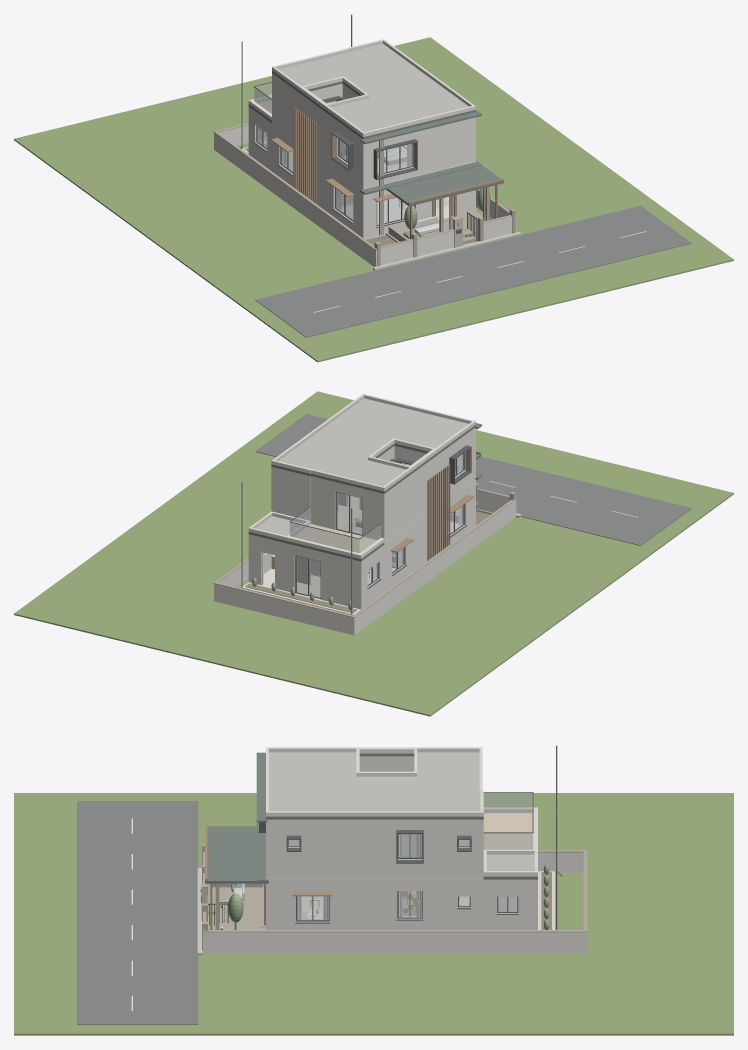
3 views of the same model, one above another, from view 1: azimuth 30°, elevation 25°; view 2: azimuth 150°, elevation 25°; view 3: azimuth 270°, elevation 25° (orthographic). The views are drawn at different scales.
Parts seen in each view (by area): view 1: world, custom-roof-finish-1, custom-roof-edge-1, exterior-porch-01-roof, wall-44aec5453eb587b517/0, wall-ae07d5a1624a482f4e/0, u-court-east-wall/0, wall-56f0df1c559ffb676d/1, wall-8aa8ca5207131ec5fa/1, roof-floor-1, wall-7168c41b46fb575962/1, l-court-east-wall-2/0 (+2 smaller); view 2: world, custom-roof-finish-1, custom-roof-edge-1, wall-07f861034d02370a2d/0, wall-59ff834e22f7912519/0, wall-ae07d5a1624a482f4e/0, wall-a66522edbdfa76ded5/0, u-balcony-guard-0, custom-roof-edge-0, u-balcony/stone-deck, u-court-east-wall/0, l-court-east-wall-2/0 (+6 smaller); view 3: world, custom-roof-finish-1, custom-roof-edge-1, exterior-porch-01-roof, wall-52cafdbdcb19207600/0, wall-091800ff5b6f9d52a1/1, wall-0e7fc3fe49344c308f/1, u-balcony-guard-0, u-balcony/stone-deck, wall-e3868b5023a3825a9d/1, wall-1b6780813577d5cf8a/0, wall-0e7fc3fe49344c308f/0 (+20 smaller).
Boxes of the visible parts, x1,y1,x2,y2 form: world: (14, 14, 733, 362); custom-roof-finish-1: (279, 44, 468, 131); custom-roof-edge-1: (272, 39, 475, 136); exterior-porch-01-roof: (386, 161, 503, 206); wall-44aec5453eb587b517/0: (440, 117, 475, 168); wall-ae07d5a1624a482f4e/0: (272, 73, 300, 140); u-court-east-wall/0: (300, 94, 323, 158); wall-56f0df1c559ffb676d/1: (366, 134, 439, 178); wall-8aa8ca5207131ec5fa/1: (366, 190, 475, 229); roof-floor-1: (272, 70, 475, 138); wall-7168c41b46fb575962/1: (323, 174, 366, 230); l-court-east-wall-2/0: (301, 145, 323, 208); world: (14, 391, 733, 716); custom-roof-finish-1: (278, 398, 468, 486); custom-roof-edge-1: (271, 393, 475, 491); wall-07f861034d02370a2d/0: (284, 552, 357, 608); wall-59ff834e22f7912519/0: (271, 467, 307, 519); wall-ae07d5a1624a482f4e/0: (381, 473, 413, 541); wall-a66522edbdfa76ded5/0: (313, 486, 379, 539); u-balcony-guard-0: (289, 507, 380, 553); custom-roof-edge-0: (248, 511, 384, 558); u-balcony/stone-deck: (295, 525, 375, 553); u-court-east-wall/0: (413, 456, 436, 520); l-court-east-wall-2/0: (412, 508, 434, 571); world: (14, 745, 733, 1035); custom-roof-finish-1: (269, 752, 480, 811); custom-roof-edge-1: (266, 747, 483, 816); exterior-porch-01-roof: (205, 826, 268, 883); wall-52cafdbdcb19207600/0: (326, 819, 359, 876); wall-091800ff5b6f9d52a1/1: (359, 891, 450, 919); wall-0e7fc3fe49344c308f/1: (359, 831, 450, 859); u-balcony-guard-0: (483, 792, 532, 849); u-balcony/stone-deck: (484, 814, 530, 849); wall-e3868b5023a3825a9d/1: (270, 893, 359, 922); wall-1b6780813577d5cf8a/0: (270, 847, 325, 876); wall-0e7fc3fe49344c308f/0: (359, 859, 450, 876).
Bounding box in the file's own units: 27.14 × 7.23 × 34.29.
